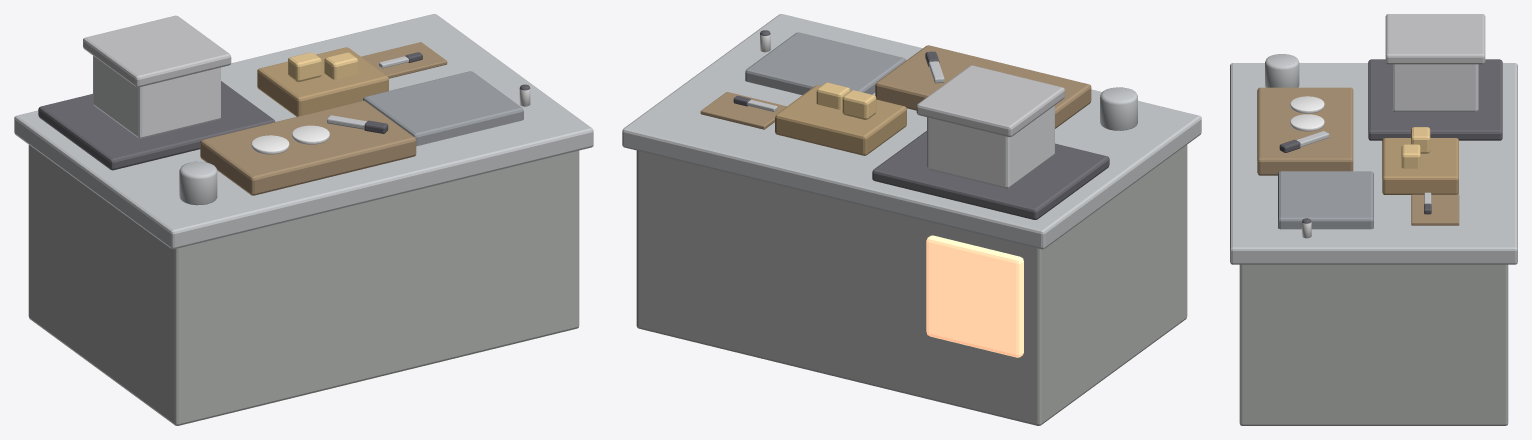
Rendered from кухня.glb.
3 renders of one model, left to right at view 1: azimuth 30°, elevation 25°; view 2: azimuth 150°, elevation 25°; view 3: azimuth 270°, elevation 25°, orthographic. The views are drawn at different scales.
Parts seen in each view (by area): view 1: кухня; view 2: кухня; view 3: кухня.
Part boxes in pixels (x1,y1,x2,y2): кухня: (14,14,593,425); кухня: (622,14,1201,425); кухня: (1230,14,1517,425).
Size of the model in its own units: 2.3 by 1.46 by 1.5.
